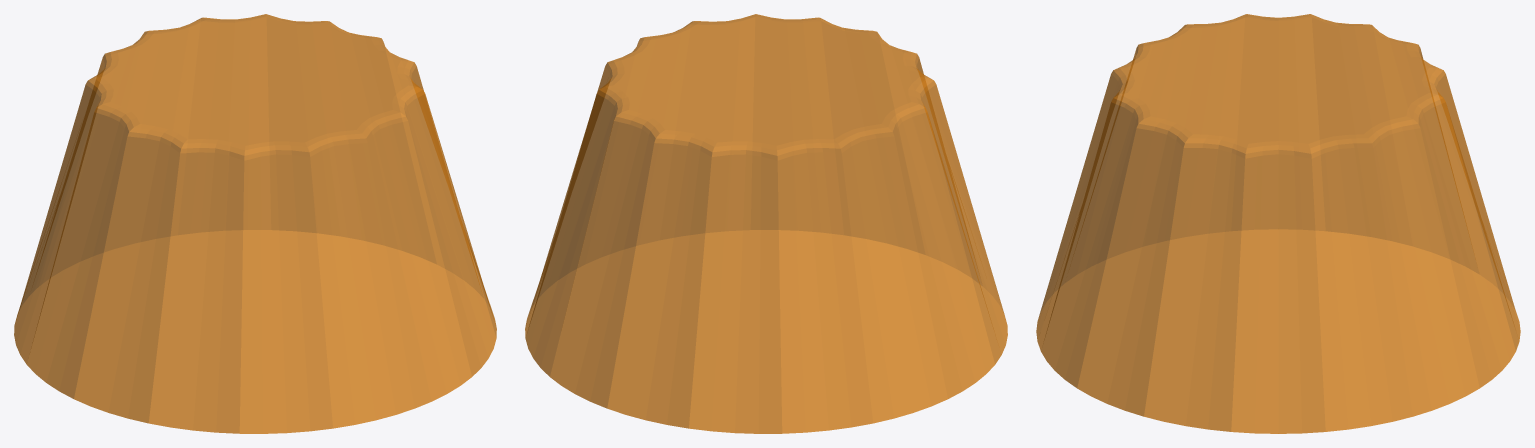
File: Jelly.fbx
The picture shows the model from 3 angles, left to right: view 1: azimuth 30°, elevation 25°; view 2: azimuth 150°, elevation 25°; view 3: azimuth 270°, elevation 25°; orthographic projection.
Parts seen in each view (by area): view 1: Цилиндр; view 2: Цилиндр; view 3: Цилиндр.
Boxes of the visible parts, x1,y1,x2,y2 form: Цилиндр: (14,14,496,433); Цилиндр: (525,14,1007,433); Цилиндр: (1036,14,1520,433).
Size of the model in its own units: 2 by 1.15 by 2.
